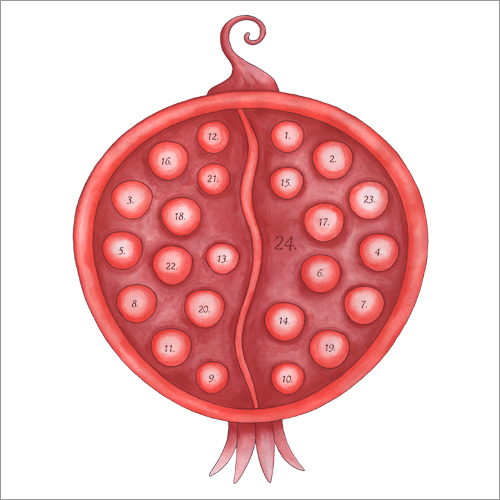pomogranate: (70, 13, 427, 482)
